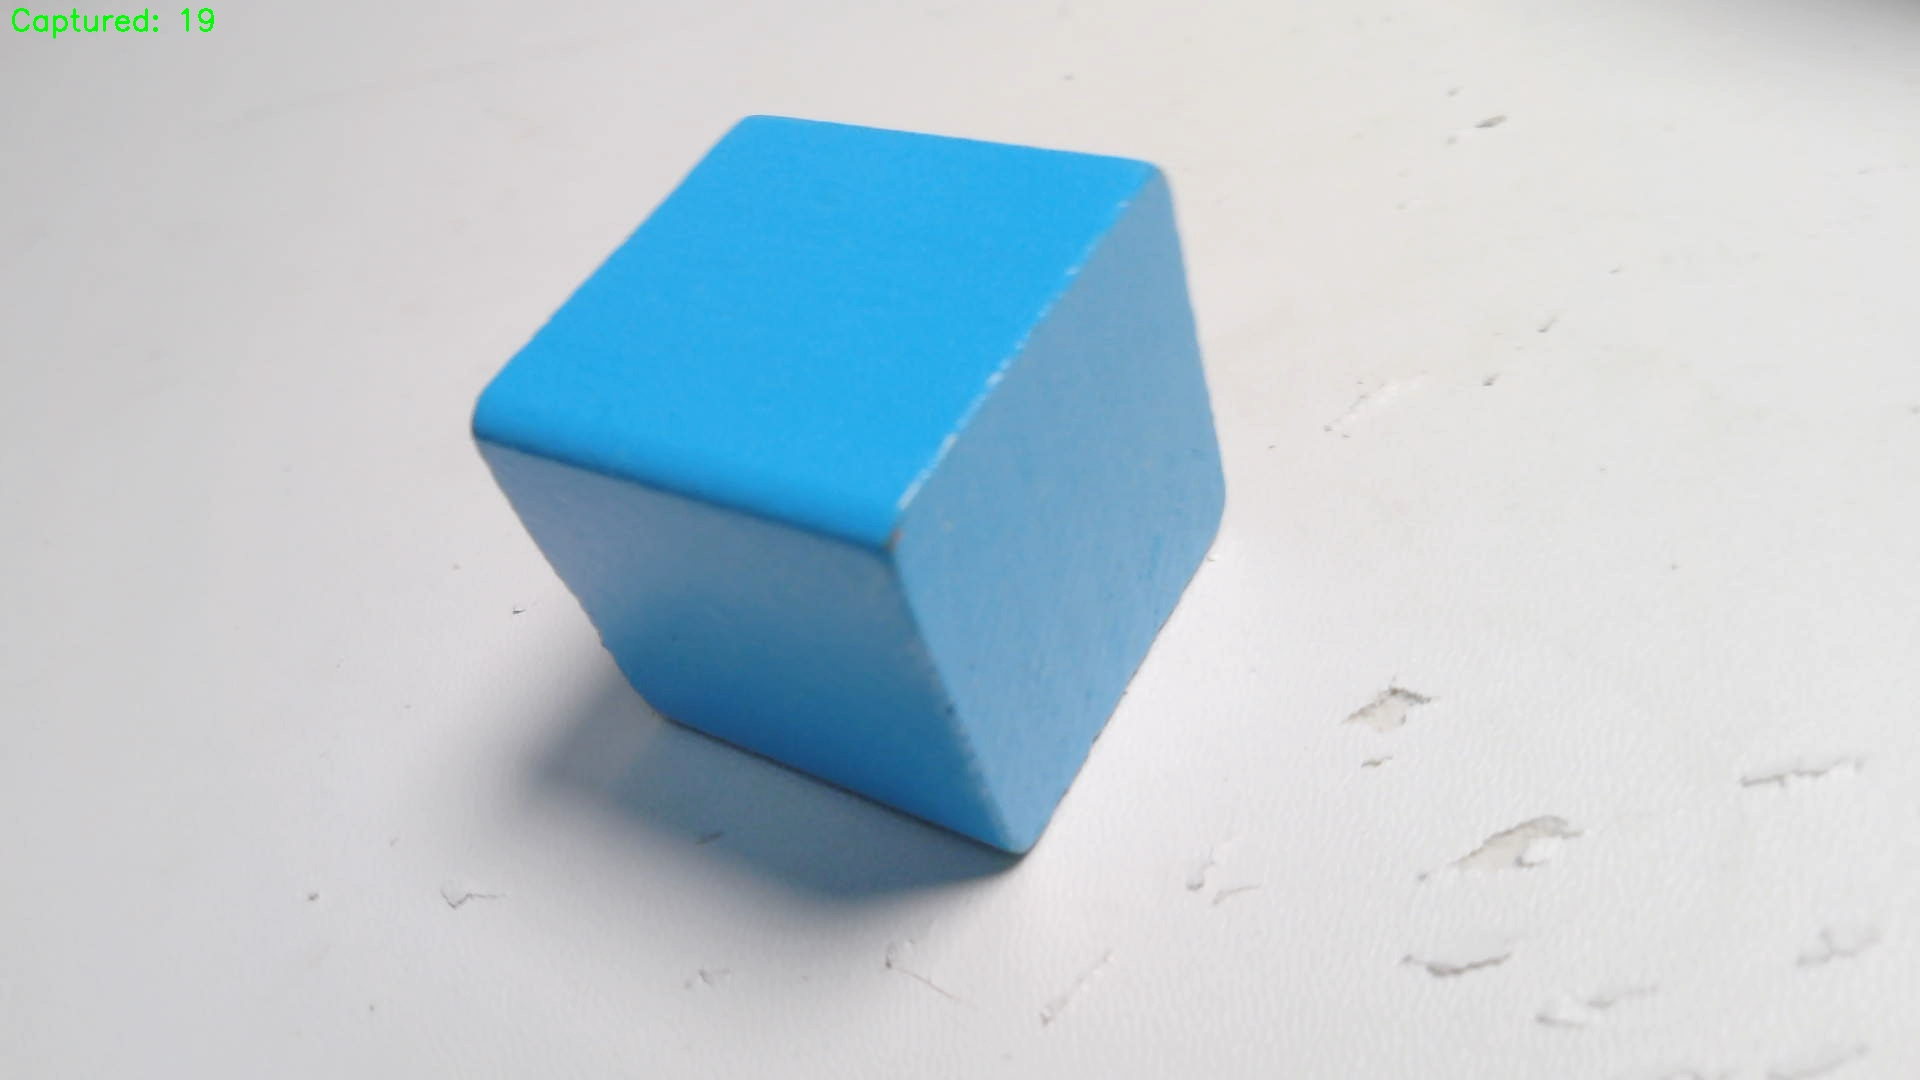blue: (471, 116, 1224, 868)
